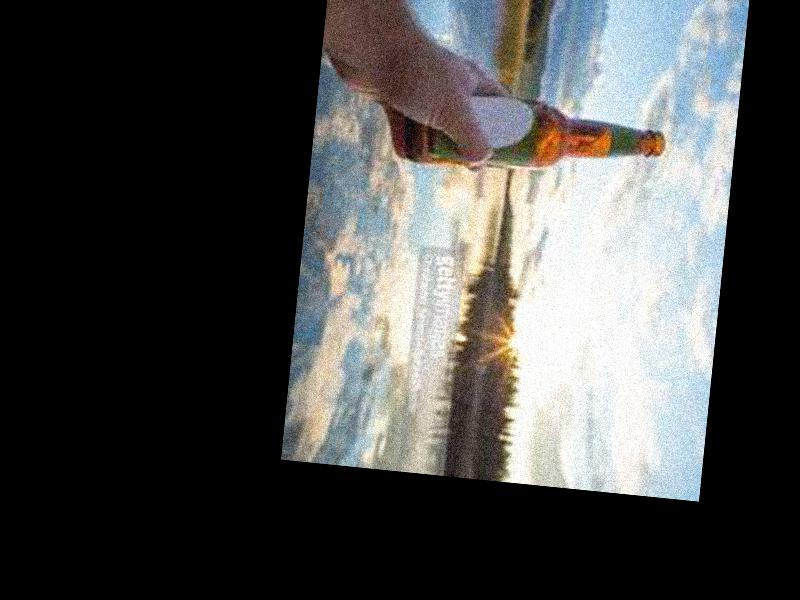Beer: (405, 86, 668, 189)
